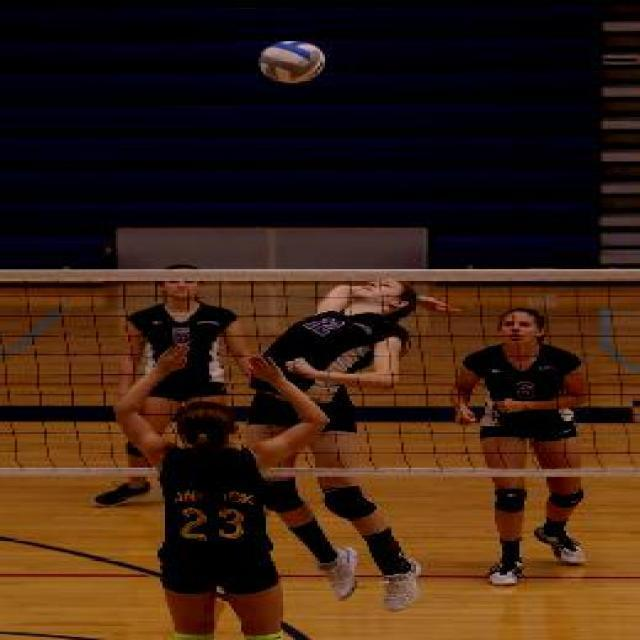volleyball: (260, 40, 324, 81)
